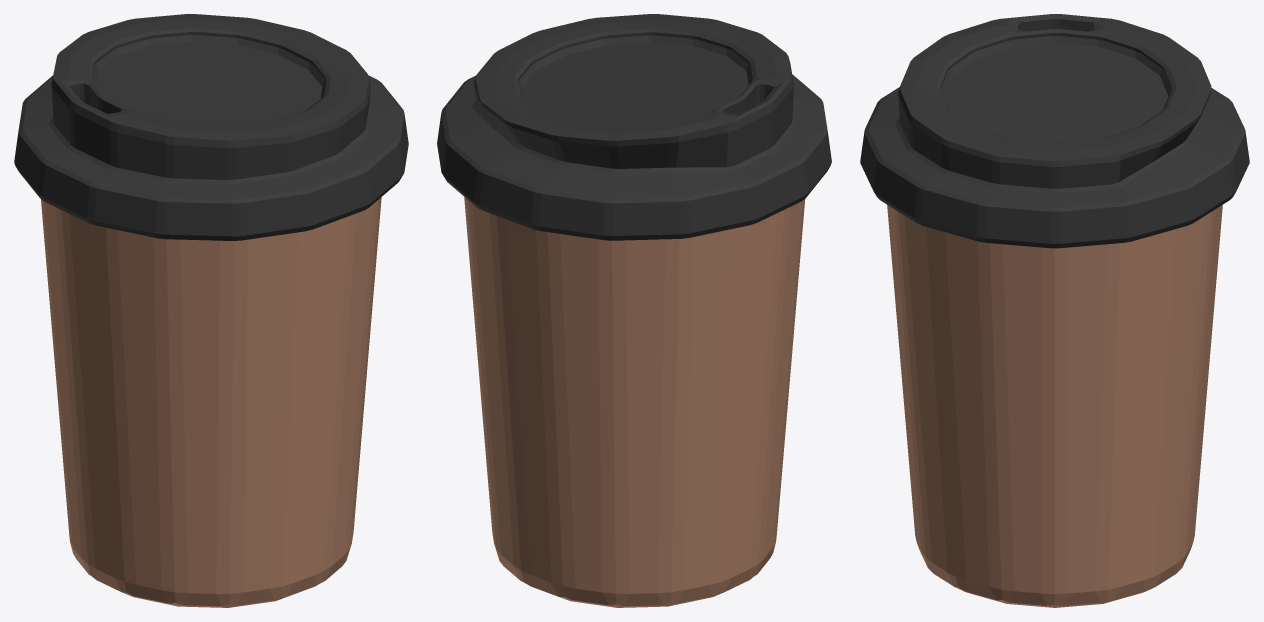
The model's file is Coffee_cup_2_partyassets.fbx.
3 views of the same model, side by side, from view 1: azimuth 30°, elevation 25°; view 2: azimuth 150°, elevation 25°; view 3: azimuth 270°, elevation 25° (orthographic). The views are drawn at different scales.
Visible parts, largest first — view 1: Coffee_cup_2_partyassets, Cube.004; view 2: Coffee_cup_2_partyassets, Cube.004; view 3: Coffee_cup_2_partyassets, Cube.004.
Part boxes in pixels (x1=…): Coffee_cup_2_partyassets: x1=41, y1=197, x2=381, y2=607; Cube.004: x1=14, y1=14, x2=408, y2=240; Coffee_cup_2_partyassets: x1=464, y1=197, x2=805, y2=607; Cube.004: x1=437, y1=14, x2=831, y2=240; Coffee_cup_2_partyassets: x1=887, y1=205, x2=1222, y2=607; Cube.004: x1=860, y1=14, x2=1249, y2=248.
Size of the model in its own units: 12.61 by 17.05 by 12.61.
